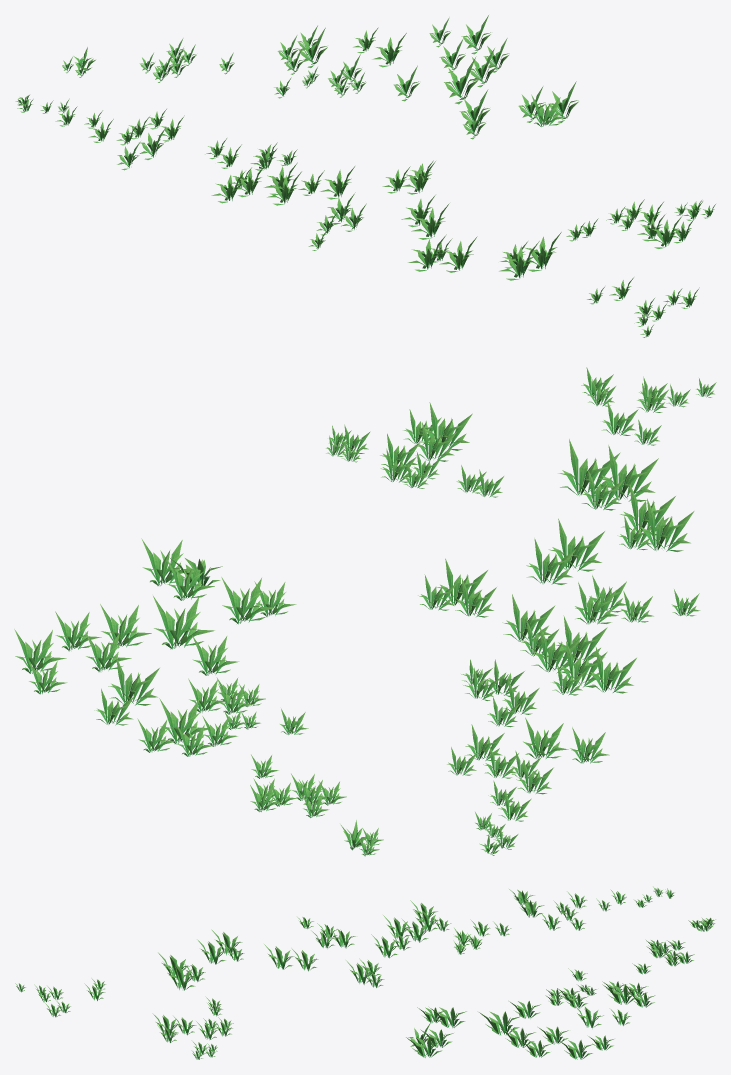
The model's file is area_01_1.FBX.
3 renders of one model, top to bottom at view 1: azimuth 30°, elevation 25°; view 2: azimuth 150°, elevation 25°; view 3: azimuth 270°, elevation 25°, orthographic. The views are drawn at different scales.
Visible parts, largest first — view 1: area_01_1; view 2: area_01_1; view 3: area_01_1.
Part boxes in pixels (x1=…): area_01_1: x1=15, y1=15, x2=715, y2=337; area_01_1: x1=14, y1=367, x2=716, y2=856; area_01_1: x1=15, y1=886, x2=715, y2=1059.
Bounding box in the file's own units: 23.81 × 2.01 × 41.31.
